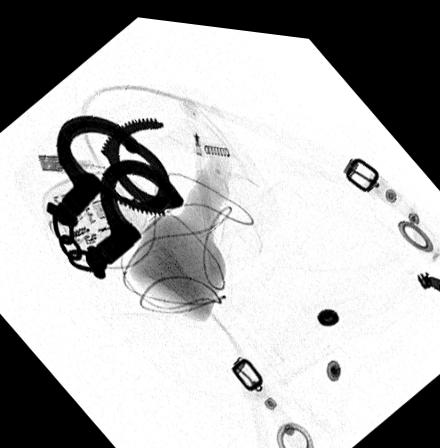HandCuffs: (43, 109, 188, 278)
